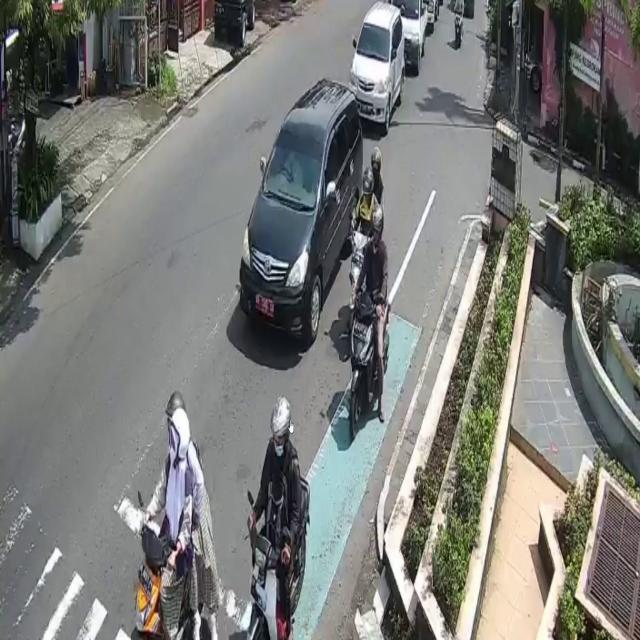car: (239, 80, 362, 360), (351, 1, 404, 136)
motorbike: (246, 476, 311, 640), (134, 524, 190, 640), (352, 290, 389, 432)
